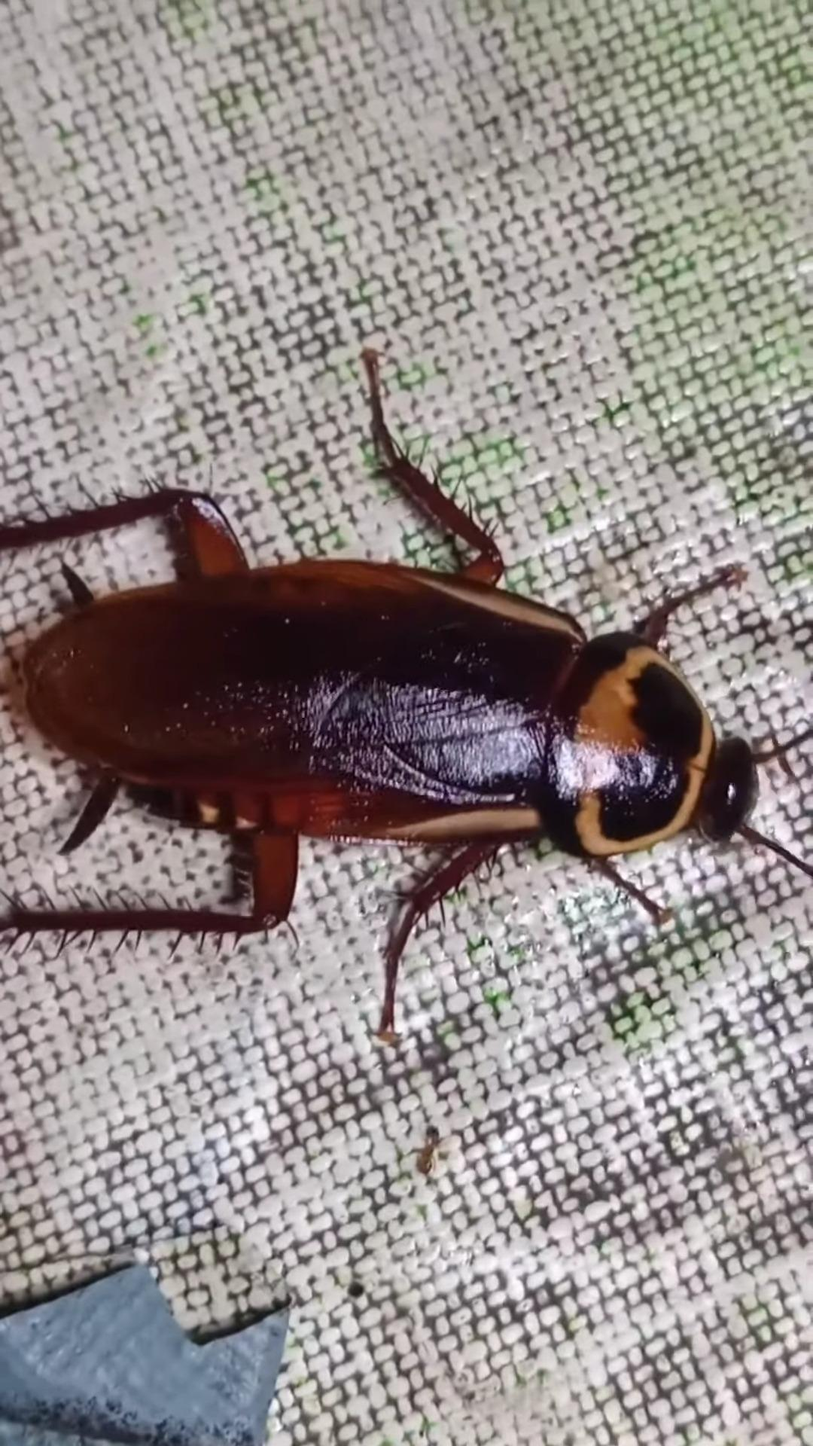cockroach: (0, 313, 813, 1100)
